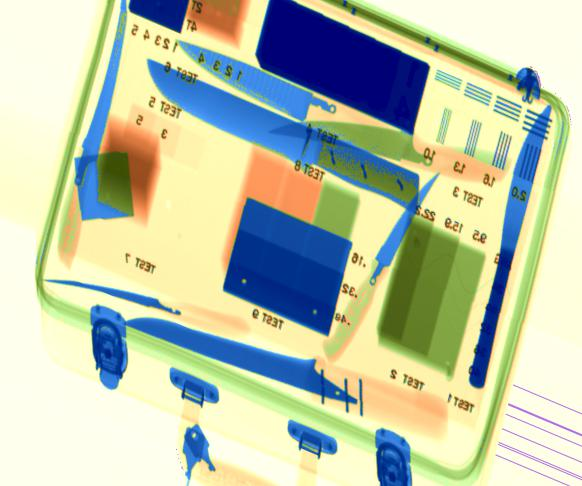KnifeCustom: (145, 59, 423, 215), (123, 317, 448, 439), (466, 104, 553, 389), (325, 170, 443, 359), (267, 120, 502, 187), (176, 40, 337, 122), (70, 1, 129, 198), (42, 275, 185, 320)
